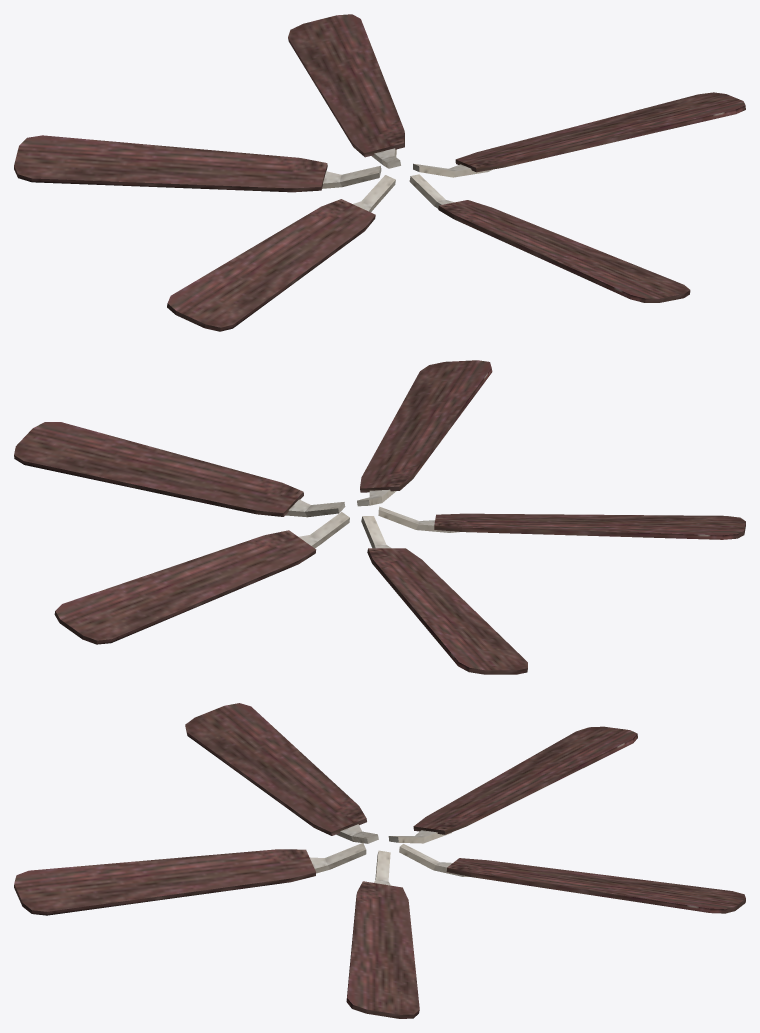
The model's file is Ceiling_Fan_Blades-col.glb.
3 views of the same model, one above another, from view 1: azimuth 30°, elevation 25°; view 2: azimuth 150°, elevation 25°; view 3: azimuth 270°, elevation 25° (orthographic). The views are drawn at different scales.
Visible parts, largest first — view 1: Ceiling_Fan_Blades-col; view 2: Ceiling_Fan_Blades-col; view 3: Ceiling_Fan_Blades-col.
Part boxes in pixels (left/top/right/bottom): Ceiling_Fan_Blades-col: left=14, top=14, right=745, bottom=331; Ceiling_Fan_Blades-col: left=14, top=360, right=745, bottom=674; Ceiling_Fan_Blades-col: left=14, top=703, right=745, bottom=1018.
Size of the model in its own units: 3.17 by 0.102 by 3.22.
1 material, 1 textured.
